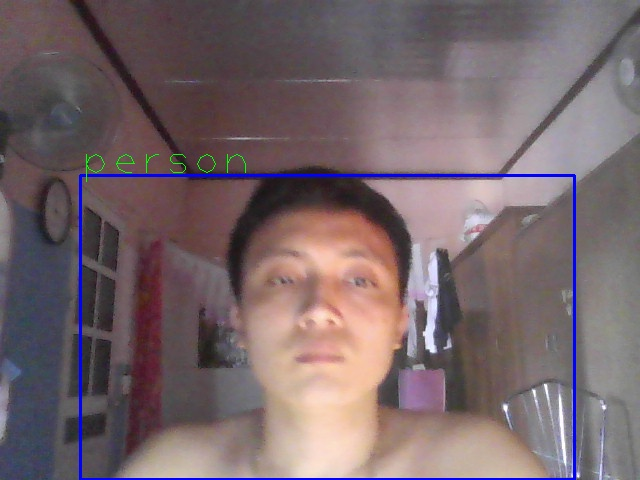person: (80, 175, 575, 480)
